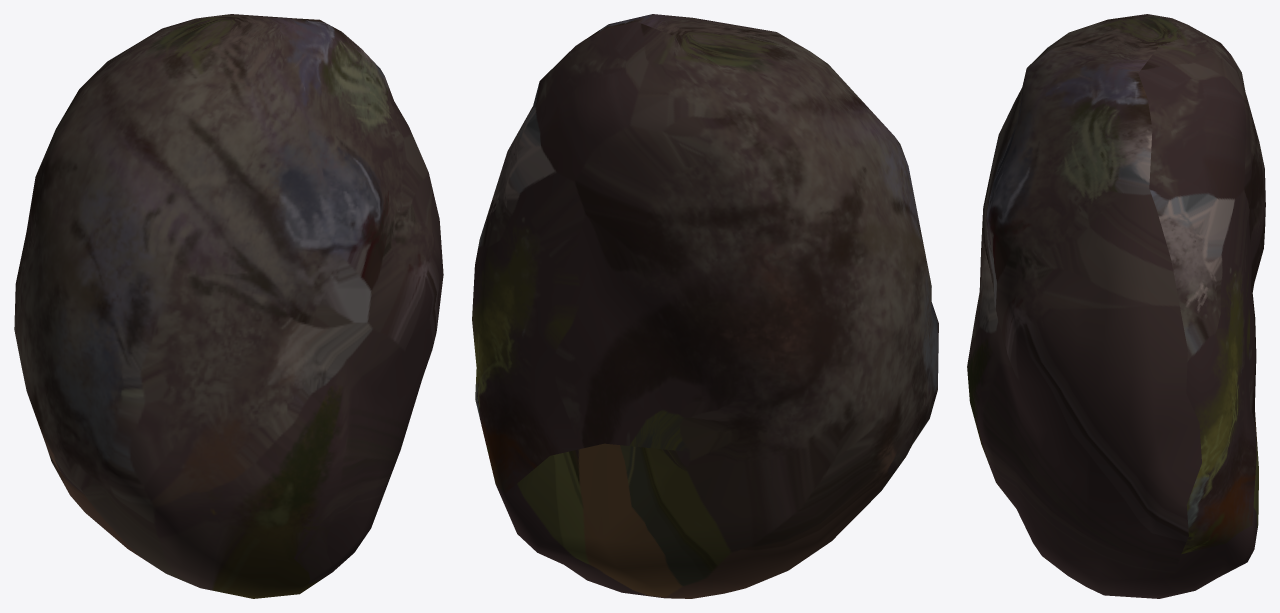
The model's file is rock_med_01.fbx.
3 renders of one model, left to right at view 1: azimuth 30°, elevation 25°; view 2: azimuth 150°, elevation 25°; view 3: azimuth 270°, elevation 25°, orthographic. The views are drawn at different scales.
Visible parts, largest first — view 1: Mesh; view 2: Mesh; view 3: Mesh.
Boxes of the visible parts, box(x1,y1,x2,y2) form: Mesh: box(14, 14, 443, 598); Mesh: box(472, 14, 938, 598); Mesh: box(967, 14, 1265, 598).
Size of the model in its own units: 45.96 by 59.88 by 30.66.
